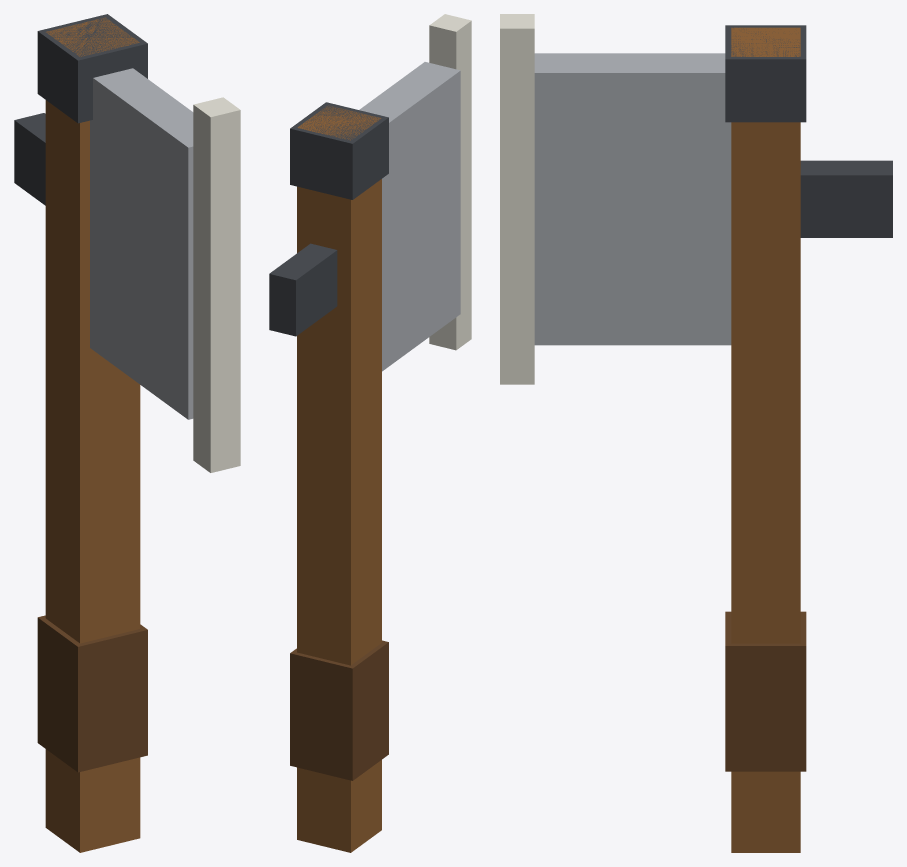
File: reaver_axe.glb
3 views of the same model, side by side, from view 1: azimuth 30°, elevation 25°; view 2: azimuth 150°, elevation 25°; view 3: azimuth 270°, elevation 25° (orthographic). The views are drawn at different scales.
Visible parts, largest first — view 1: reaver_axe; view 2: reaver_axe; view 3: reaver_axe.
Part boxes in pixels (x1,y1,x2,y2): reaver_axe: (14, 14, 240, 852); reaver_axe: (269, 14, 471, 852); reaver_axe: (500, 14, 892, 852).
Size of the model in its own units: 0.07 by 0.78 by 0.34.
1 material, 1 textured.
